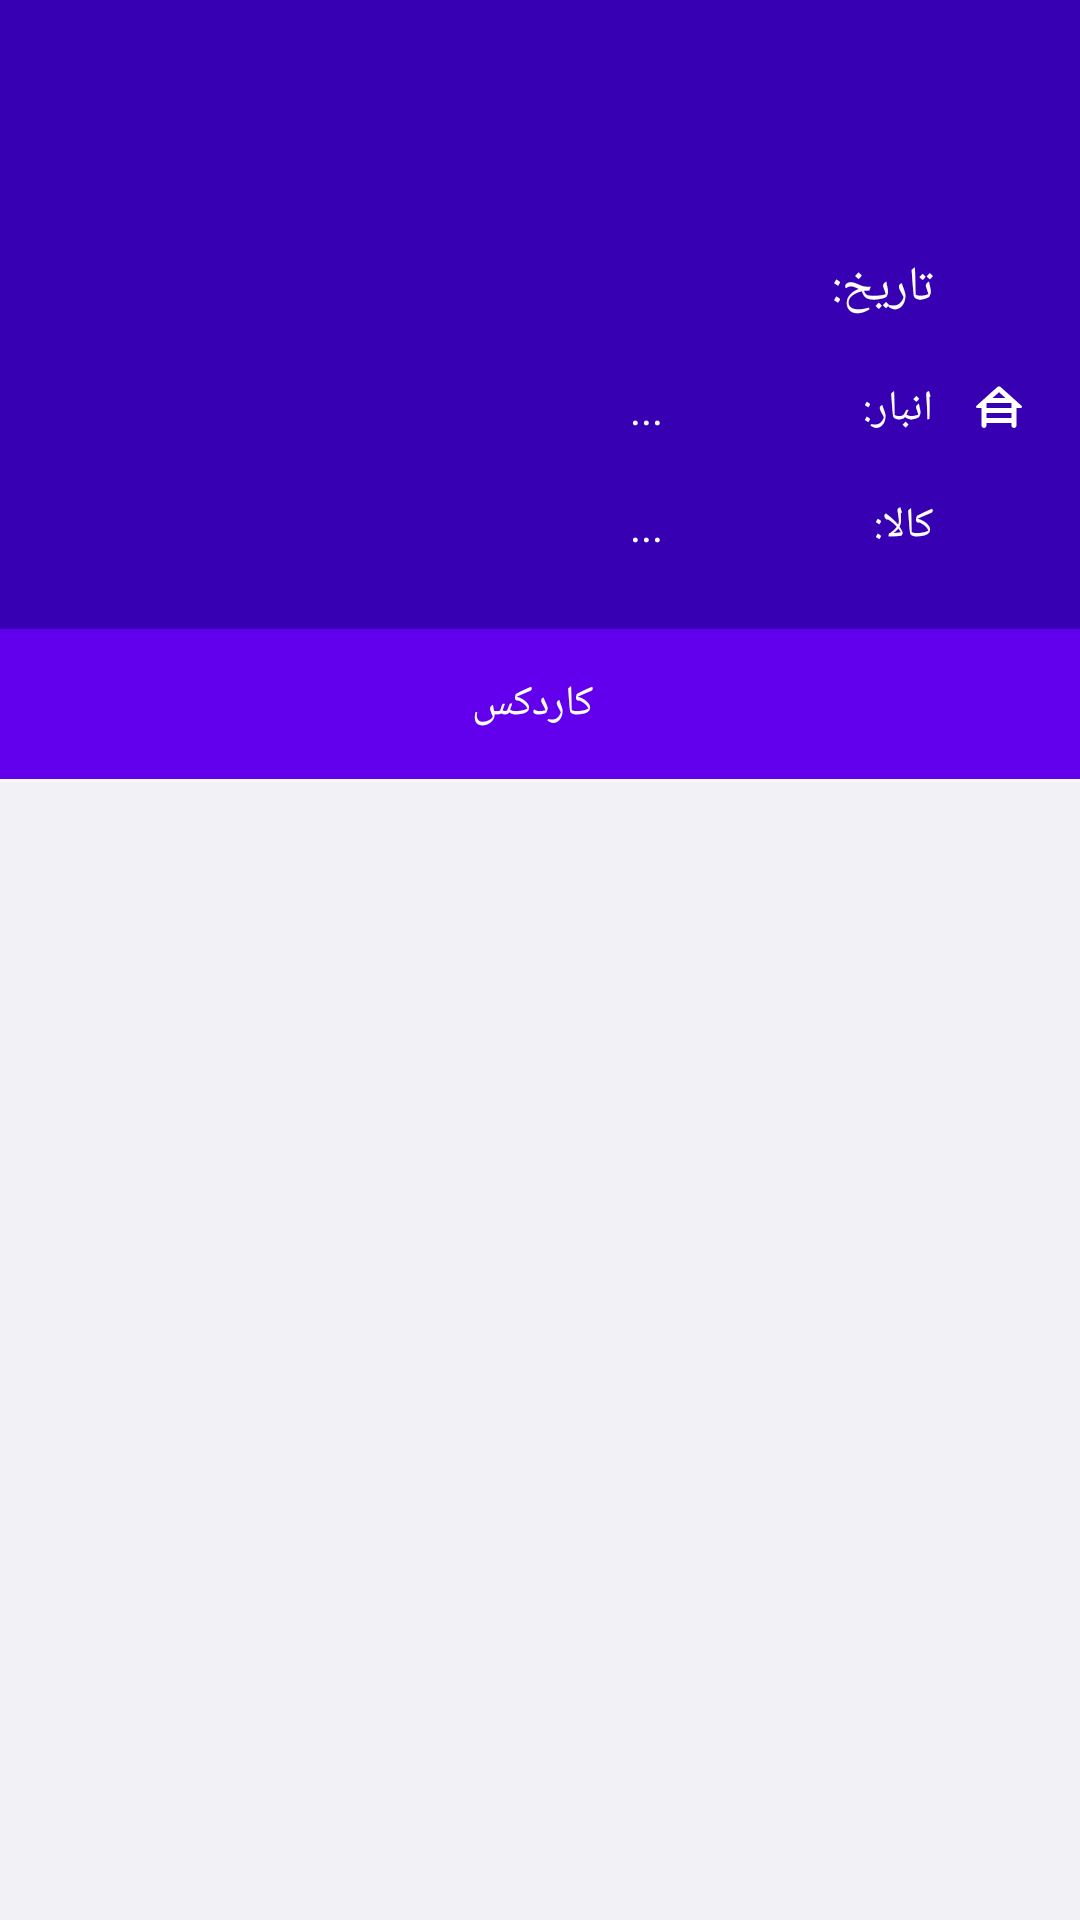

Named icons in this screenshot (1080x1920) and their bounding boxes, (x1, y1, x2, y2):
house siding: (976, 386, 1022, 428)
